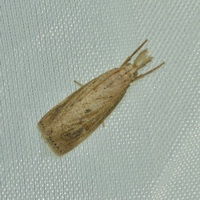insect: (37, 39, 163, 155)
